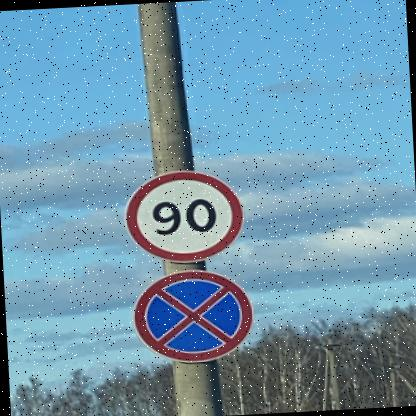speedlimit: (122, 166, 244, 262)
